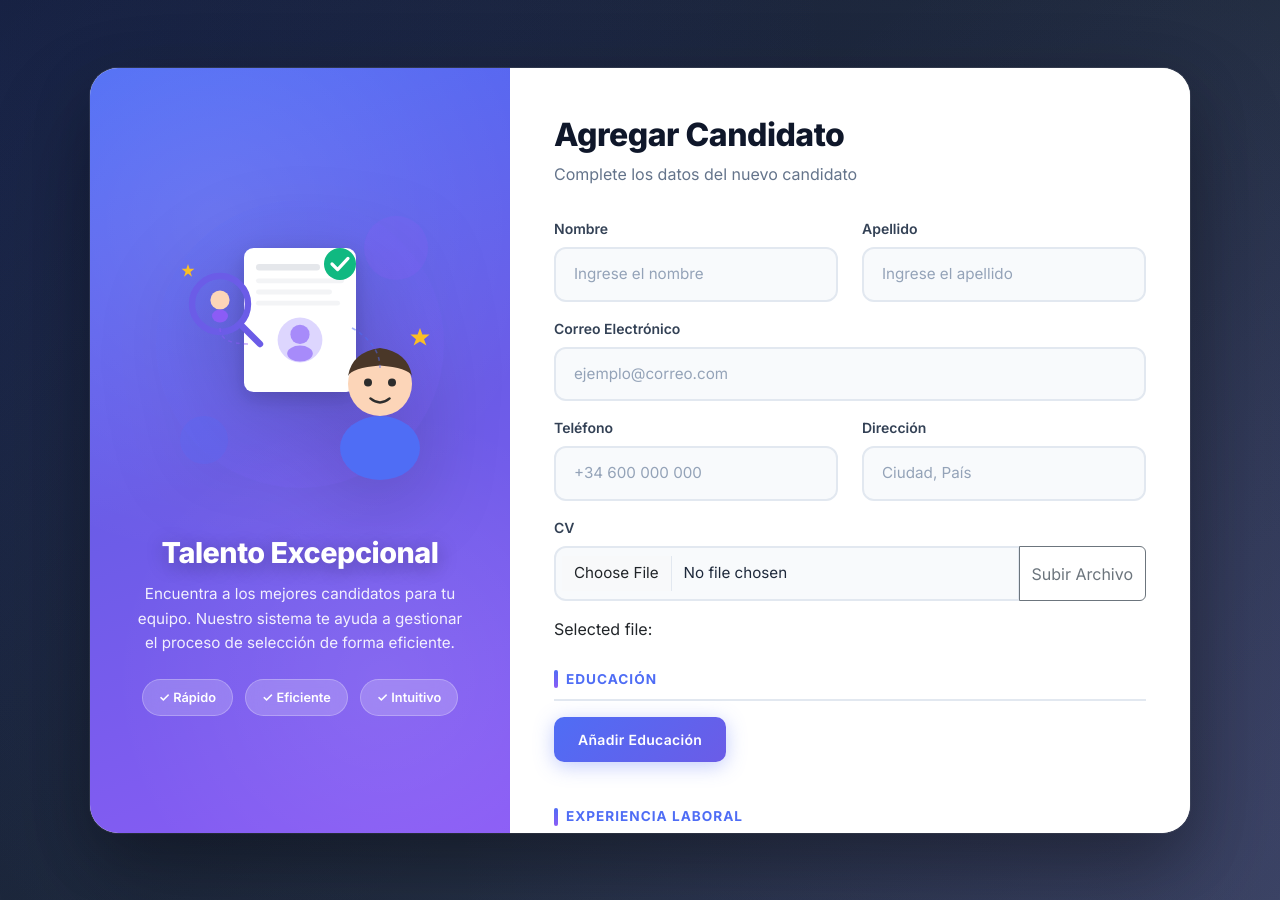
Test: AddCandidateForm › muestra mensaje de error cuando el envío falla
Rellenar campos mínimos (incluyendo teléfono que ahora es obligatorio)
Type "Test" into the field labelled "Nombre" at (696, 274), box [554, 247, 838, 302]
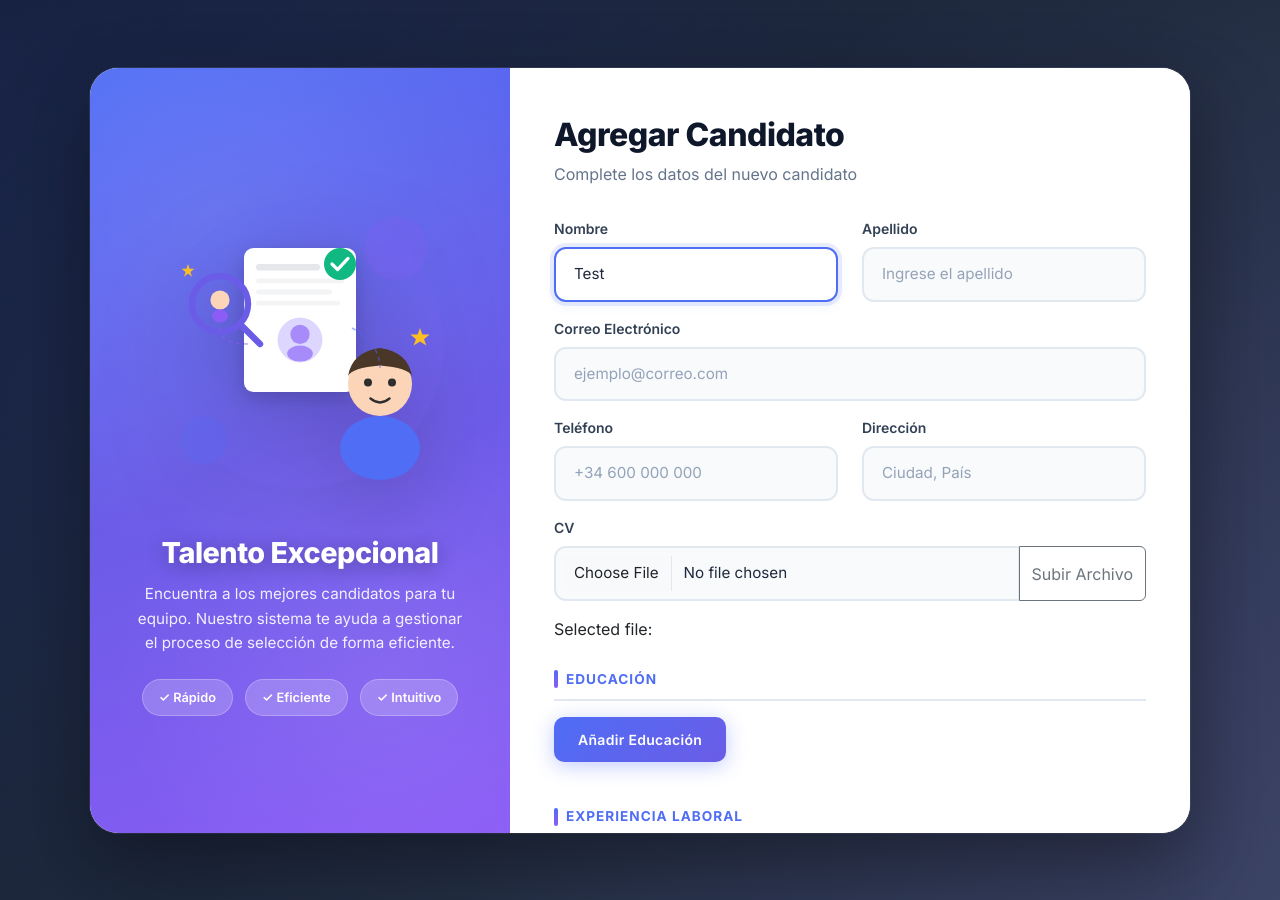
Type "User" into the field labelled "Apellido" at (1004, 274), box [862, 247, 1146, 302]
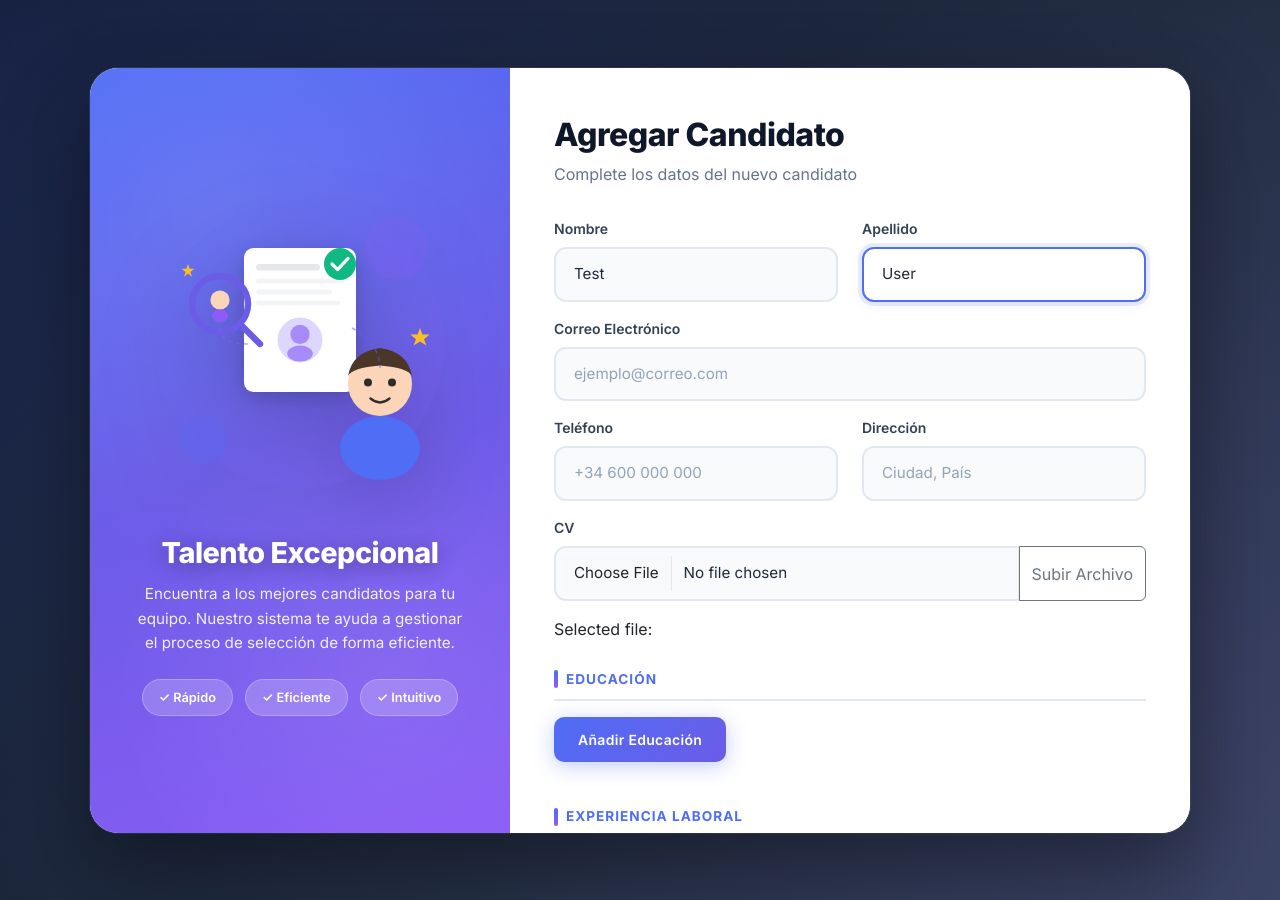
Type "test@test.com" into the field labelled "Correo Electrónico" at (850, 374), box [554, 347, 1146, 402]
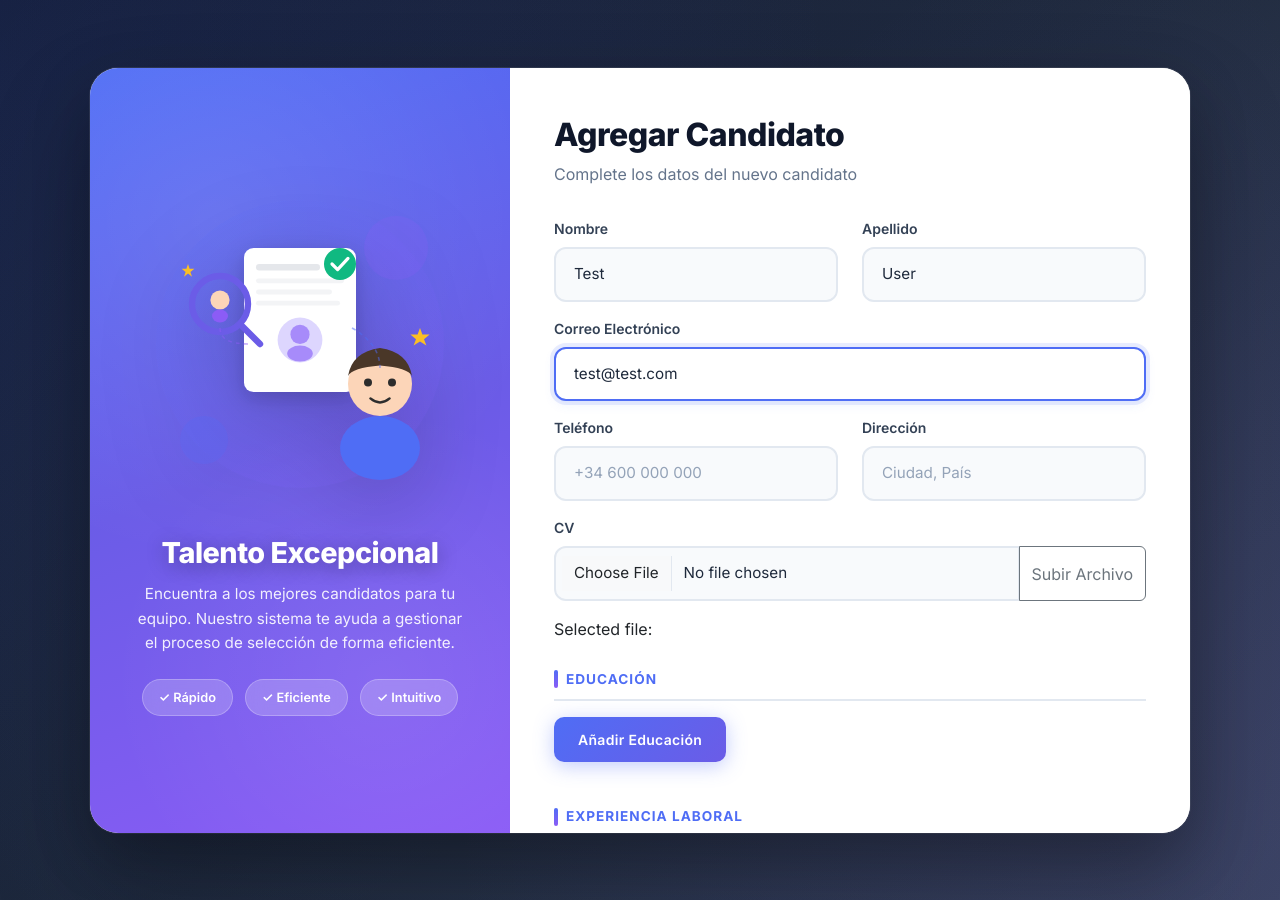
Type "123456789" into the field labelled "Teléfono" at (696, 474), box [554, 446, 838, 501]
(page scrolled)
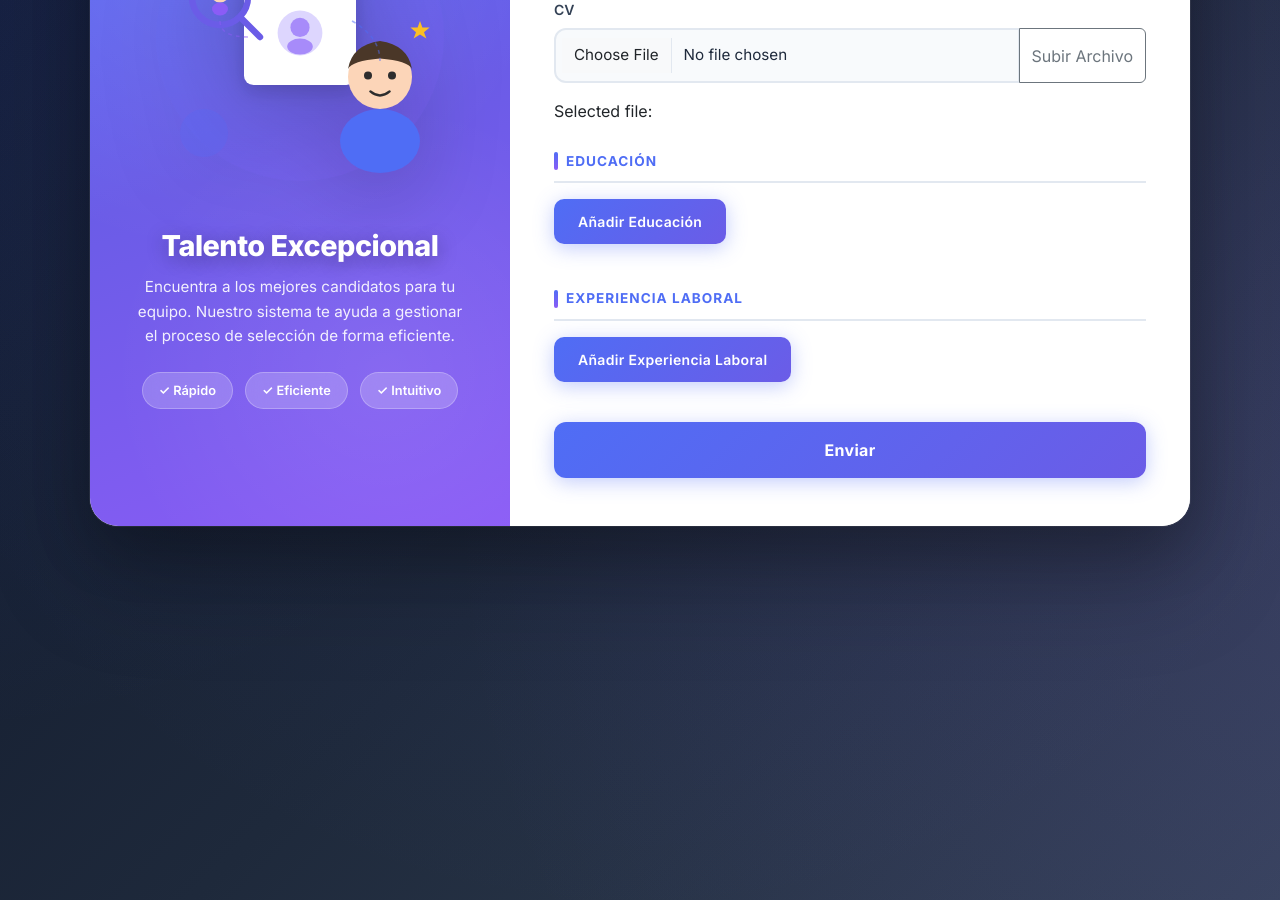
Enviar formulario
Click the button "Enviar" at (850, 450), box [554, 422, 1146, 478]
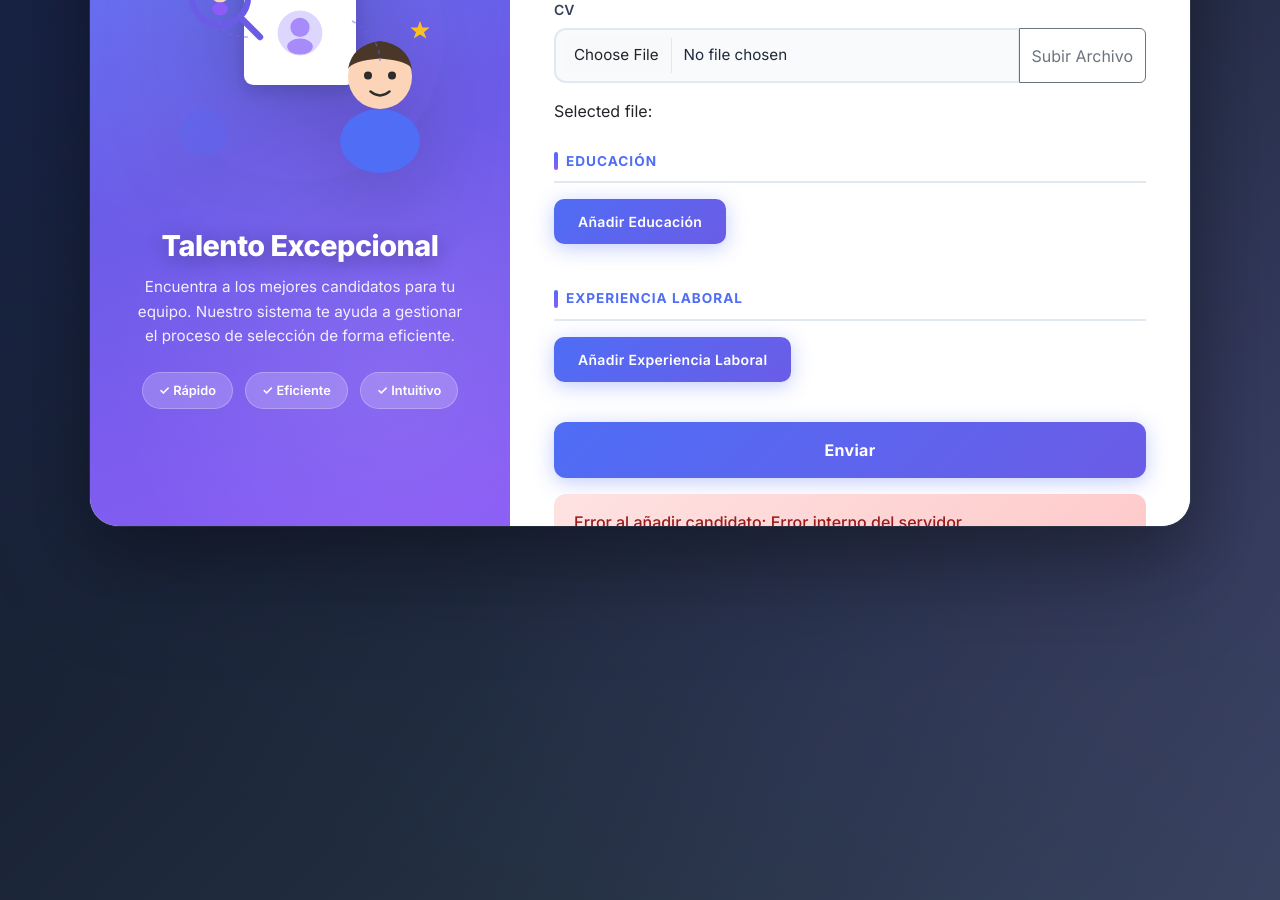
Expected: the text "Error al añadir candidato: Error interno del servidor" is shown, [574, 512, 962, 526]
